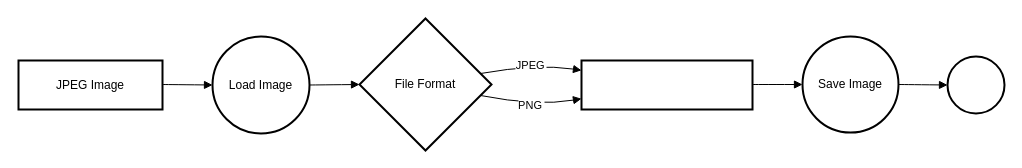
Some shapes in this 1022 by 168 pixel diagram are drawn without their labels. Each missing label, with the centre of its shape:
Convert to PNG: the point at 666,84
Finish: the point at 975,84
